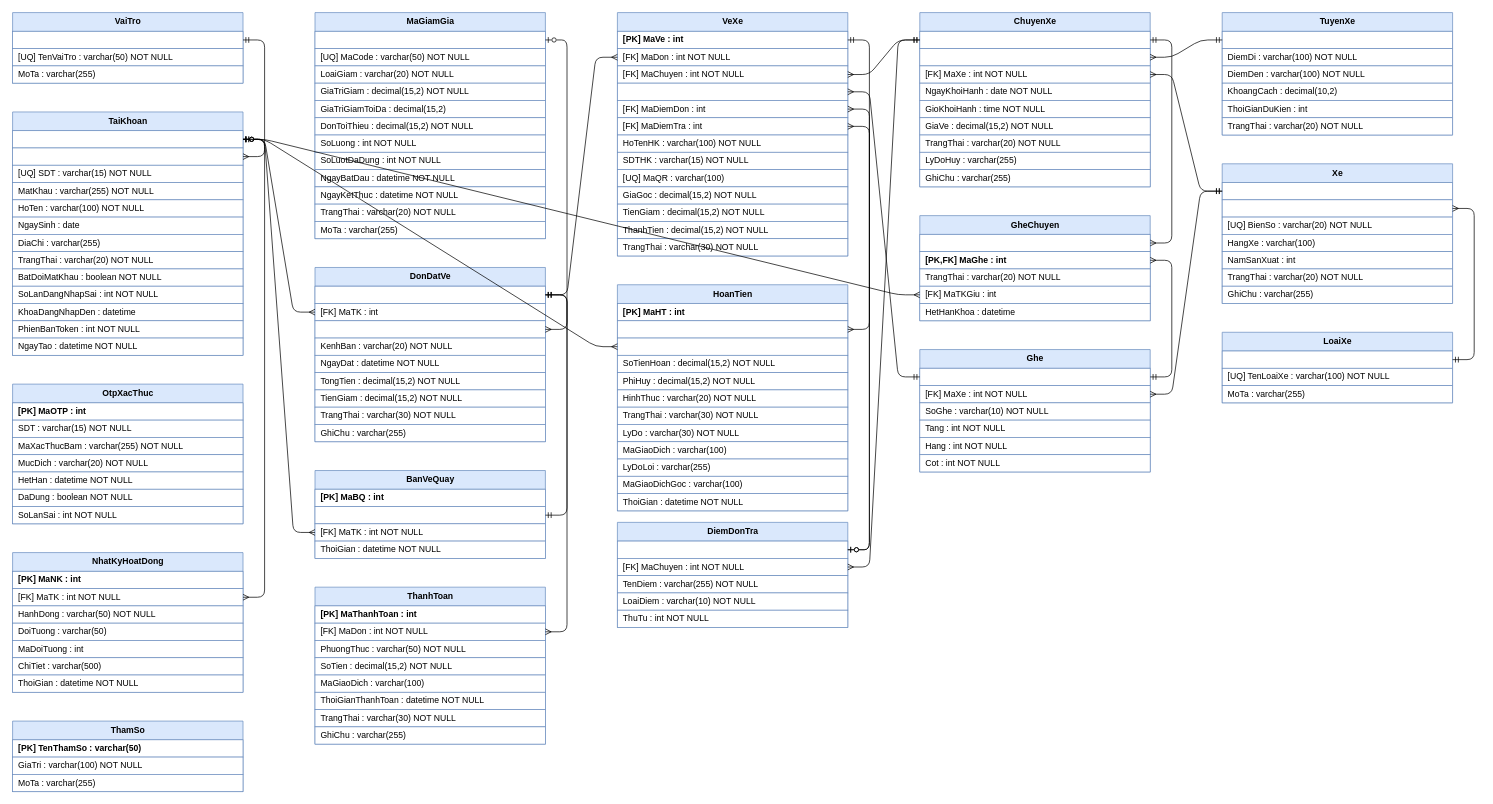
The diagram is 1493 pixels wide and 804 high, and some of its shapes have lost their labels. Each missing label, with the centre of its shape:
"[FK,UQ] MaDon : int NOT NULL" goes at point 429,515.
"[FK] MaGG : int" goes at point 429,329.
"[FK] MaGhe : int NOT NULL" goes at point 732,91.
"[FK] MaLoaiXe : int NOT NULL" goes at point 1337,208.
"[FK] MaTKXuLy : int" goes at point 732,346.
"[FK] MaTuyen : int NOT NULL" goes at point 1034,57.
"[FK] MaVaiTro : int NOT NULL" goes at point 127,156.
"[FK] MaVe : int NOT NULL" goes at point 732,329.
"[PK,FK] MaChuyen : int" goes at point 1034,243.
"[PK] MaChuyen : int" goes at point 1034,40.
"[PK] MaDiem : int" goes at point 732,549.
"[PK] MaDon : int" goes at point 429,294.
"[PK] MaGG : int" goes at point 429,40.
"[PK] MaGhe : int" goes at point 1034,377.
"[PK] MaLoaiXe : int" goes at point 1337,359.
"[PK] MaTK : int" goes at point 127,139.
"[PK] MaTuyen : int" goes at point 1337,40.
"[PK] MaVaiTro : int" goes at point 127,40.
"[PK] MaXe : int" goes at point 1337,191.
